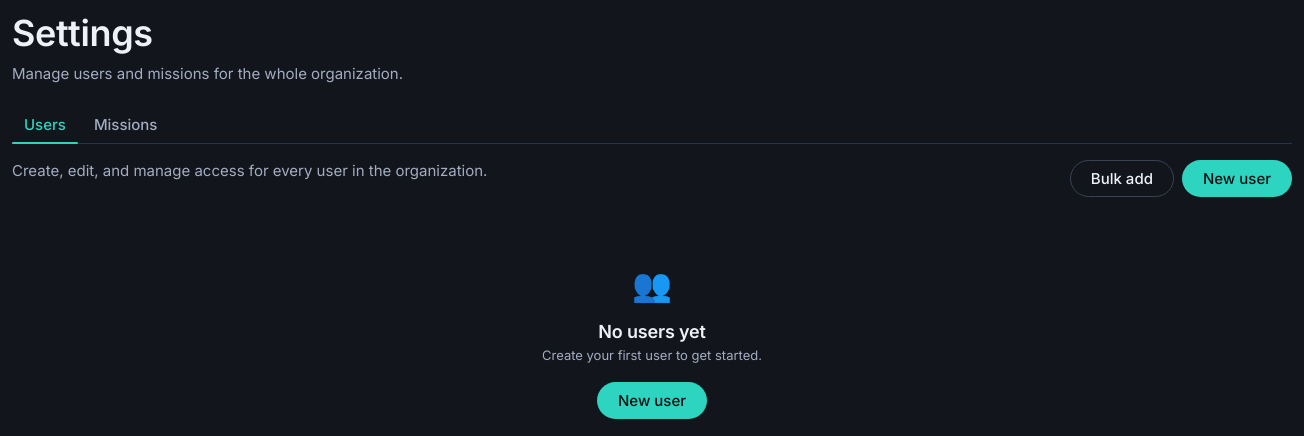
Test case: SettingsView › switches to the Missions tab and lists missions
Click the tab "Missions" at (126, 125), box x1=82 y1=107 x2=170 y2=144
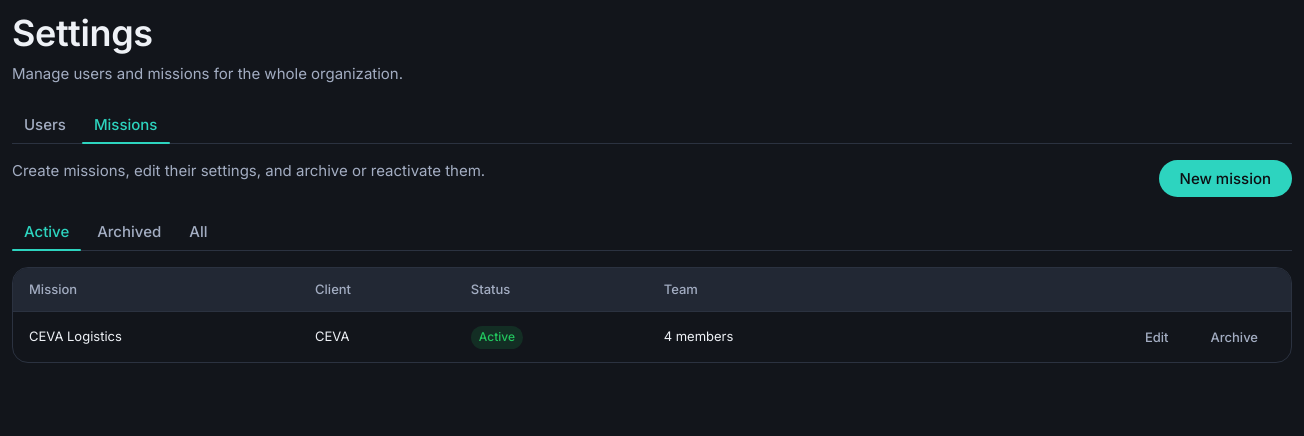
Check: the text "CEVA Logistics" is shown, box x1=13 y1=312 x2=299 y2=362
